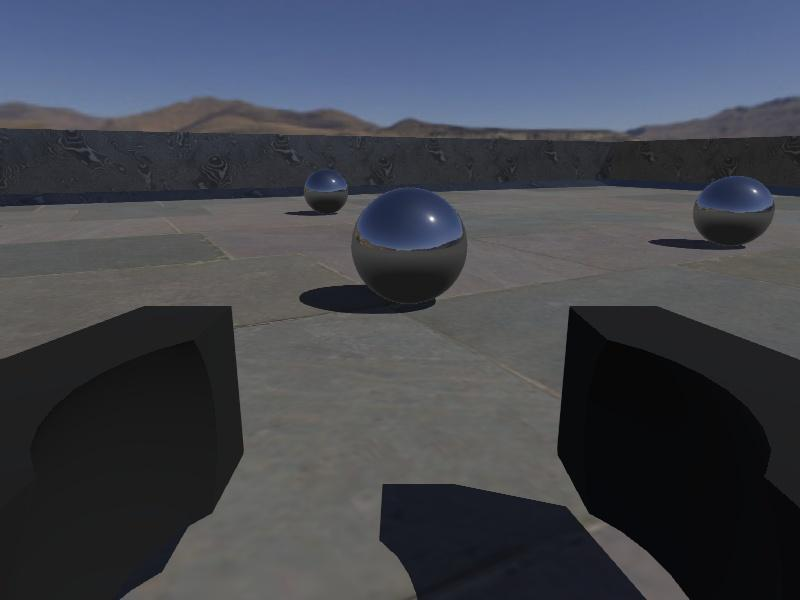steel ball: (350, 187, 468, 305), (692, 175, 775, 247), (303, 168, 350, 215)
